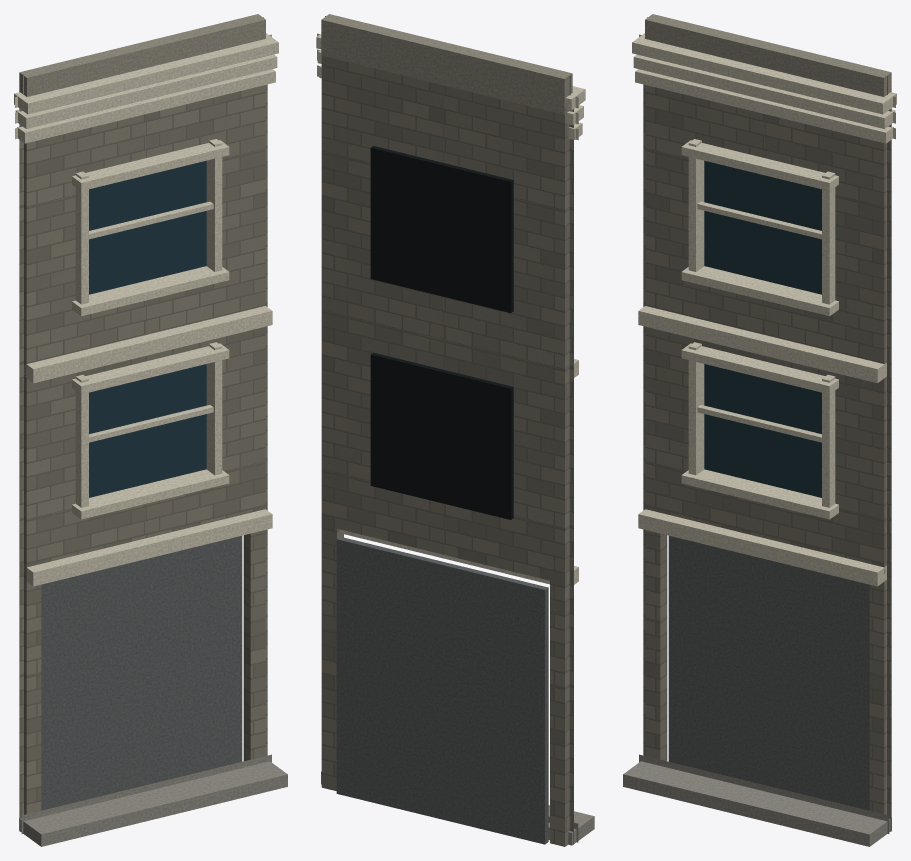
The model's file is VICT32_lod2.glb.
The picture shows the model from 3 angles, left to right: view 1: azimuth 30°, elevation 25°; view 2: azimuth 150°, elevation 25°; view 3: azimuth 330°, elevation 25°; orthographic projection.
Parts seen in each view (by area): view 1: VICT32_FRONT_LOD2; view 2: VICT32_FRONT_LOD2; view 3: VICT32_FRONT_LOD2.
Boxes of the visible parts, bbox=[...] form: VICT32_FRONT_LOD2: bbox=[14, 14, 287, 846]; VICT32_FRONT_LOD2: bbox=[316, 14, 594, 846]; VICT32_FRONT_LOD2: bbox=[623, 14, 896, 846].
Bounding box in the file's own units: 3.44 × 9.66 × 0.65.
7 materials, 5 textured.
